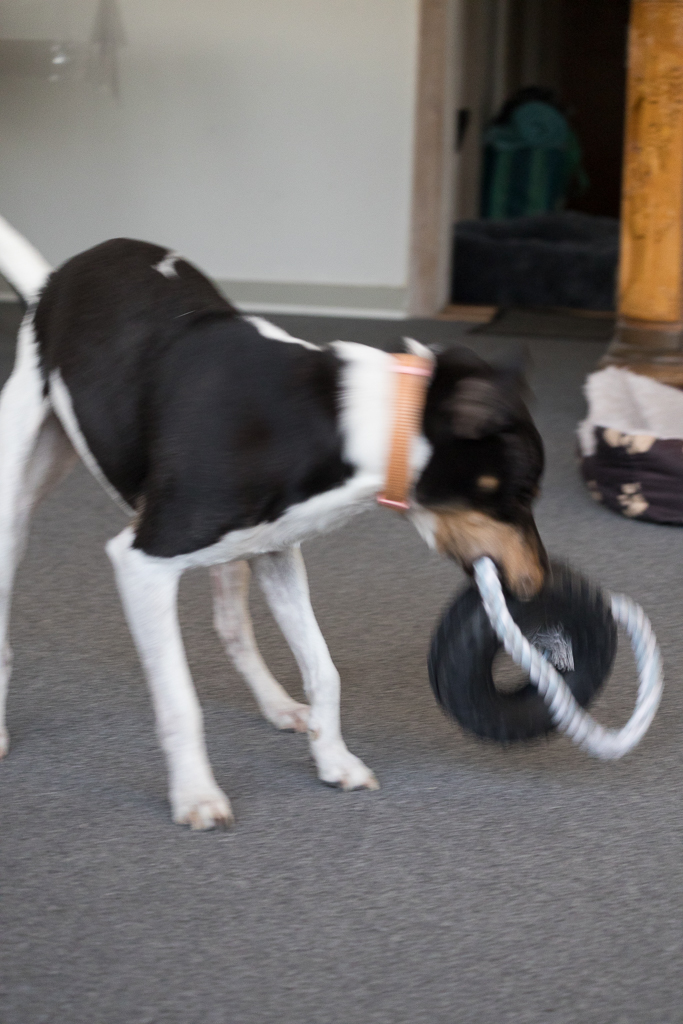Dog: (0, 200, 565, 849)
